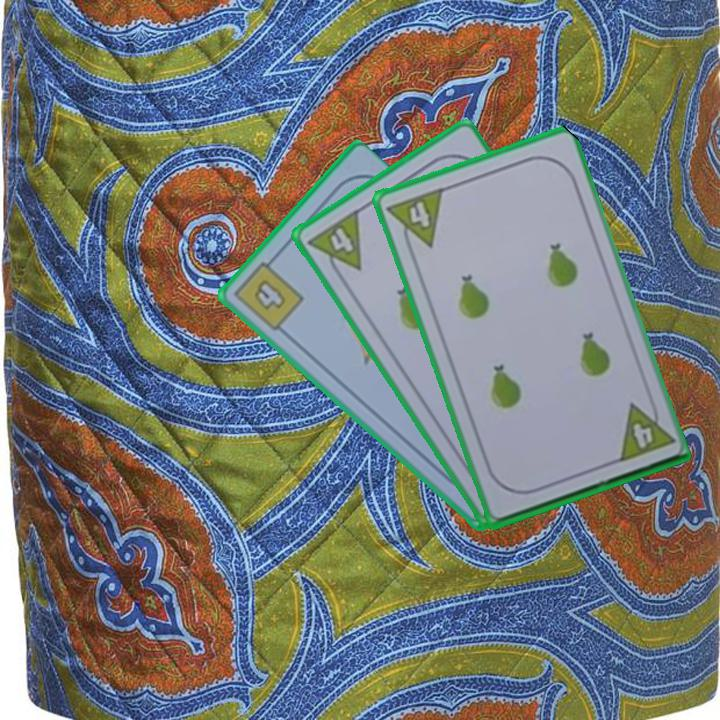4b: (230, 252, 307, 334)
4p: (304, 205, 365, 285), (383, 184, 446, 257), (613, 394, 676, 466)
